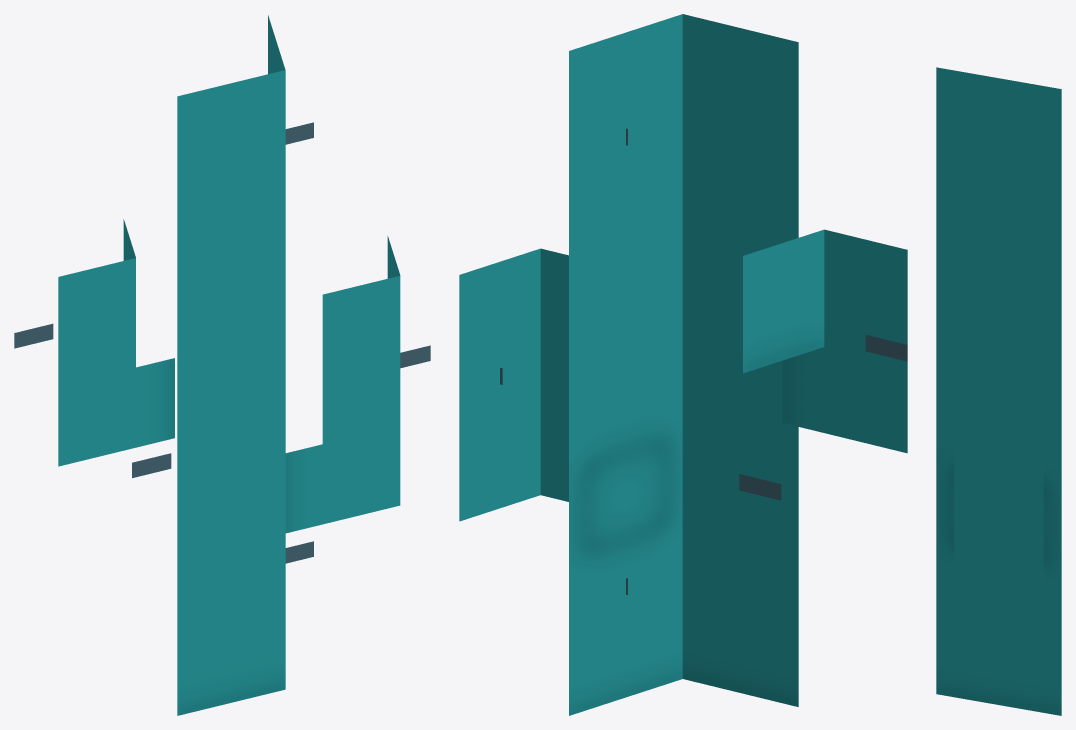
The model's file is Cactus_01.FBX.
3 renders of one model, left to right at view 1: azimuth 30°, elevation 25°; view 2: azimuth 150°, elevation 25°; view 3: azimuth 270°, elevation 25°, orthographic. The views are drawn at different scales.
Visible parts, largest first — view 1: Cactus_01; view 2: Cactus_01; view 3: Cactus_01.
Part boxes in pixels (left/top/right/bottom): Cactus_01: left=14, top=15, right=430, bottom=715; Cactus_01: left=459, top=14, right=907, bottom=715; Cactus_01: left=936, top=67, right=1061, bottom=715.
Bounding box in the file's own units: 9.32 × 13.25 × 2.4.
